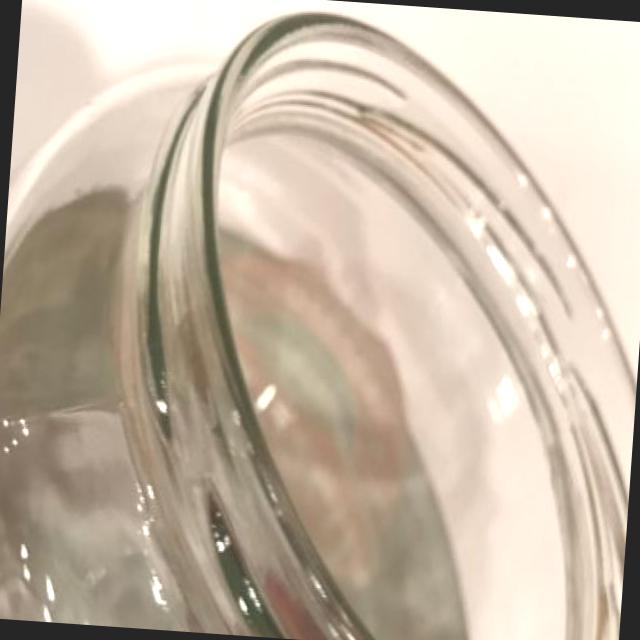chai_thuy_tinh: (0, 10, 637, 640)
